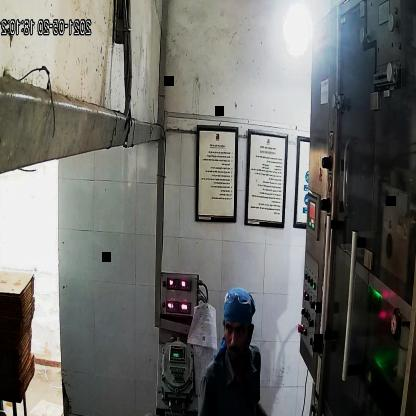no_goggles: (222, 318, 254, 343)
